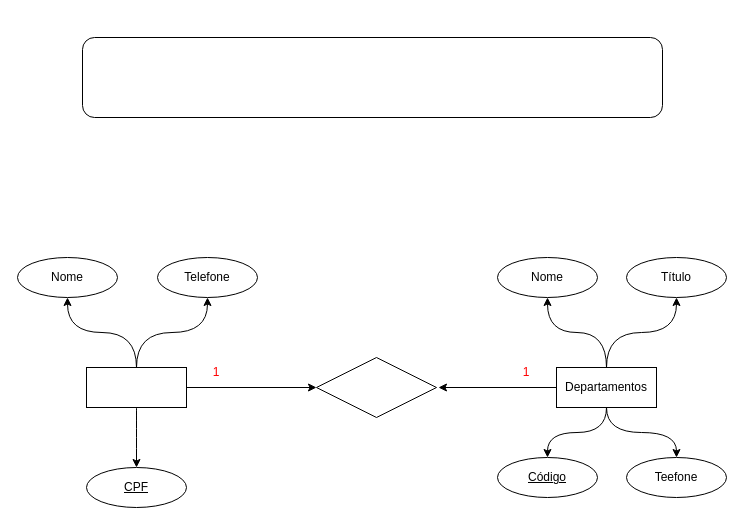
Image size: 744x525. Some labels were removed from this diagram. Here are the shapes that lost their labels. From the top down, the centre of each, then its label:
At point (372, 77): "Diagrama - Exercício 2, Slide 2".
At point (136, 387): "Diretor".
At point (376, 387): "Gerencia".
